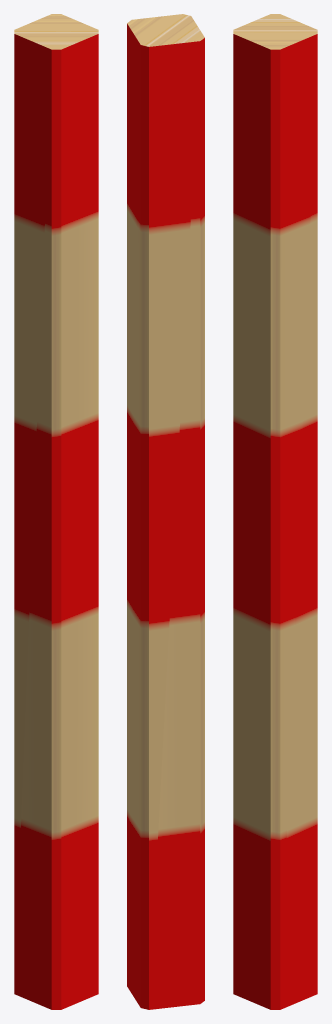
Rendered from RangingRod.obj.
3 renders of one model, left to right at view 1: azimuth 90°, elevation 25°; view 2: azimuth 150°, elevation 25°; view 3: azimuth 270°, elevation 25°, orthographic.
Parts seen in each view (by area): view 1: SubMesh_0, SubMesh_1; view 2: SubMesh_0, SubMesh_1; view 3: SubMesh_0, SubMesh_1.
Boxes of the visible parts, box(x1,y1,x2,y2) form: SubMesh_0: box(14, 34, 98, 1009); SubMesh_1: box(14, 14, 98, 49); SubMesh_0: box(127, 24, 204, 1009); SubMesh_1: box(127, 14, 204, 46); SubMesh_0: box(233, 34, 317, 1009); SubMesh_1: box(233, 14, 317, 49).
Bounding box in the file's own units: 0.4773 × 5.99 × 0.4773.
1 material, 1 textured.
